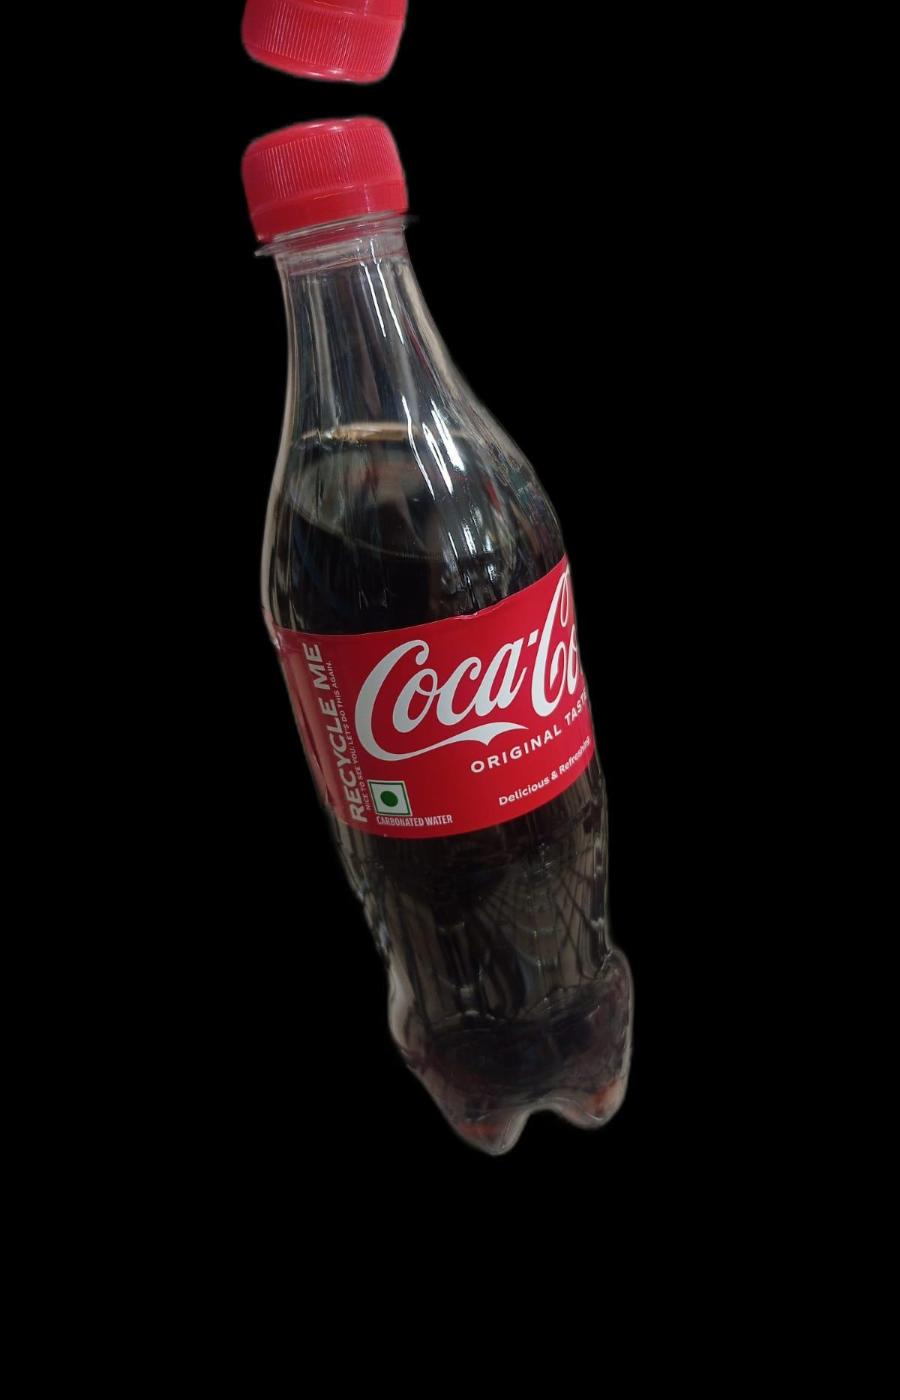Coca-Cola-600 ml-: (237, 123, 661, 1159)
